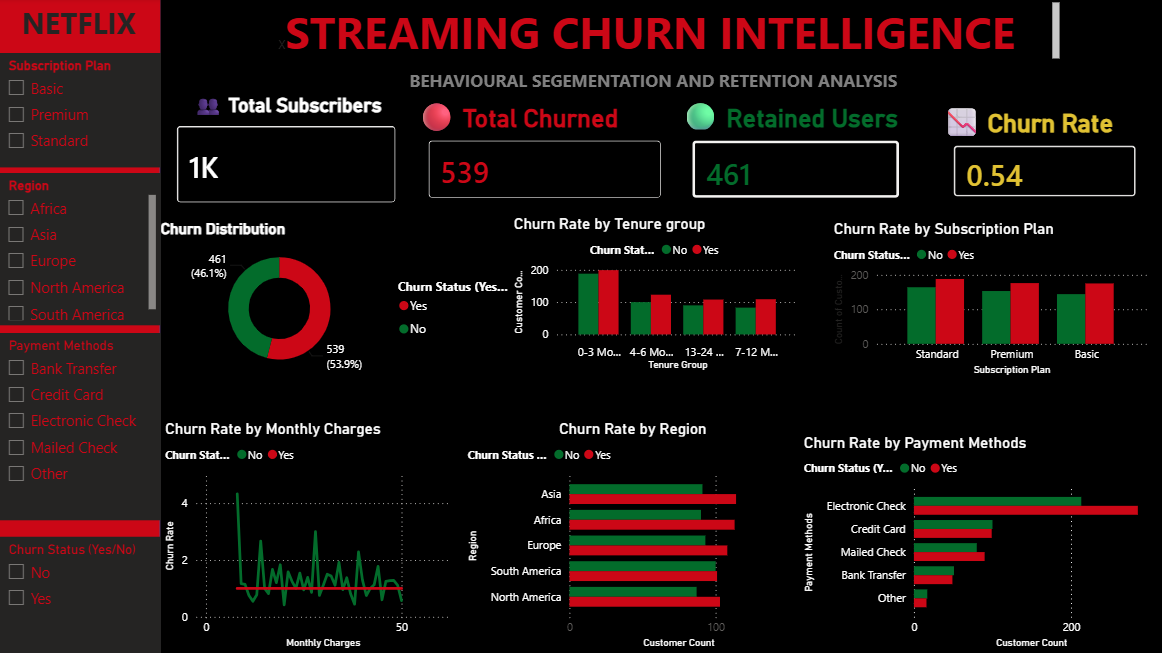

The page's visual inventory and layout, read from the dashboard file:
{"tool":"powerbi","page":{"name":"Page 1","canvas":[1280,720],"ordinal":0},"visuals":[{"type":"textbox","box":[303.6,0,868.1,72.7],"z":0},{"type":"textbox","box":[383.4,72.7,675.6,41.3],"z":1000},{"type":"cardVisual","title":"👥 Total Subscribers","fields":{"Data":["churn_powerbi_data.Total Subscribers"]},"box":[179.8,98.5,276.8,144.1],"z":2000},{"type":"cardVisual","title":"🟢 Retained Users","fields":{"Data":["churn_powerbi_data.Retained Users"]},"box":[746.3,108.5,261.1,128.4],"z":3000},{"type":"cardVisual","title":"📉 Churn Rate","fields":{"Data":["churn_powerbi_data.Churn Rate"]},"box":[1033.1,114.2,234,121.3],"z":4000},{"type":"cardVisual","title":"🔴 Total Churned","fields":{"Data":["churn_powerbi_data.Total Churned"]},"box":[456.6,108.5,289.7,128.4],"z":5000},{"type":"donutChart","title":"Churn Distribution","fields":{"Y":["CountNonNull(churn_powerbi_data.Customer ID)"],"Category":["churn_powerbi_data.Churn Status (Yes/No)"]},"box":[179.8,242.6,382.4,176.9],"z":6000},{"type":"clusteredColumnChart","title":"Churn Rate by Subscription Plan","fields":{"Category":["churn_powerbi_data.Subscription Plan"],"Series":["churn_powerbi_data.Churn Status (Yes/No)"],"Y":["CountNonNull(churn_powerbi_data.Customer ID)"]},"box":[913.7,242.3,353.5,176.7],"z":7000},{"type":"clusteredBarChart","title":"Churn Rate by Region ","fields":{"Category":["churn_powerbi_data.Region"],"Y":["churn_powerbi_data.Customer Count"],"Series":["churn_powerbi_data.Churn Status (Yes/No)"]},"box":[512.3,462.3,372.4,256.9],"z":8000},{"type":"clusteredBarChart","title":"Churn Rate by Payment Methods","fields":{"Category":["churn_powerbi_data.Payment Methods"],"Y":["churn_powerbi_data.Customer Count"],"Series":["churn_powerbi_data.Churn Status (Yes/No)"]},"box":[880.4,478,399.6,241.2],"z":9000},{"type":"lineChart","title":"Churn Rate by Monthly Charges","fields":{"Category":["churn_powerbi_data.Monthly Charges"],"Y":["churn_powerbi_data.Churn Rate"],"Series":["churn_powerbi_data.Churn Status (Yes/No)"]},"box":[179.8,462.3,322.5,256.9],"z":10000},{"type":"clusteredColumnChart","title":"Churn Rate by Tenure group","fields":{"Category":["churn_powerbi_data.Tenure Group"],"Y":["churn_powerbi_data.Customer Count"],"Series":["churn_powerbi_data.Churn Status (Yes/No)"]},"box":[562.2,236.9,322.5,176.9],"z":11000},{"type":"shape","box":[0,0,179.6,719.8],"z":12000},{"type":"textbox","box":[0,0,179.6,72.7],"z":13000},{"type":"slicer","fields":{"Values":["churn_powerbi_data.Subscription Plan"]},"box":[0,59.9,179.8,125.6],"z":13001},{"type":"slicer","fields":{"Values":["churn_powerbi_data.Region"]},"box":[0,192.6,179.8,167],"z":13002},{"type":"slicer","fields":{"Values":["churn_powerbi_data.Payment Methods"]},"box":[0,368.2,179.8,205.5],"z":13003},{"type":"slicer","fields":{"Values":["churn_powerbi_data.Churn Status (Yes/No)"]},"box":[0,590.8,179.8,128.4],"z":13004}]}

Visuals, with their boxes in screenshot pixels (x1, y1, x2, y2), scaled from the page's 1280x720 canvas onto the 1162x653 screenshot:
textbox: region(276, 0, 1064, 66)
textbox: region(348, 66, 961, 103)
"👥 Total Subscribers" cardVisual: region(163, 89, 415, 220)
"🟢 Retained Users" cardVisual: region(678, 98, 915, 215)
"📉 Churn Rate" cardVisual: region(938, 104, 1150, 214)
"🔴 Total Churned" cardVisual: region(415, 98, 678, 215)
"Churn Distribution" donutChart: region(163, 220, 510, 380)
"Churn Rate by Subscription Plan" clusteredColumnChart: region(829, 220, 1150, 380)
"Churn Rate by Region " clusteredBarChart: region(465, 419, 803, 652)
"Churn Rate by Payment Methods" clusteredBarChart: region(799, 434, 1161, 652)
"Churn Rate by Monthly Charges" lineChart: region(163, 419, 456, 652)
"Churn Rate by Tenure group" clusteredColumnChart: region(510, 215, 803, 375)
shape: region(0, 0, 163, 652)
textbox: region(0, 0, 163, 66)
slicer - churn_powerbi_data.Subscription Plan: region(0, 54, 163, 168)
slicer - churn_powerbi_data.Region: region(0, 175, 163, 326)
slicer - churn_powerbi_data.Payment Methods: region(0, 334, 163, 520)
slicer - churn_powerbi_data.Churn Status (Yes/No): region(0, 536, 163, 652)
